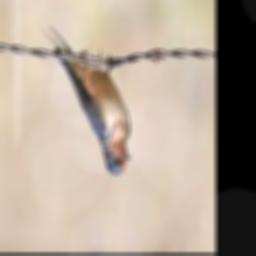Swallow: (40, 28, 133, 175)
